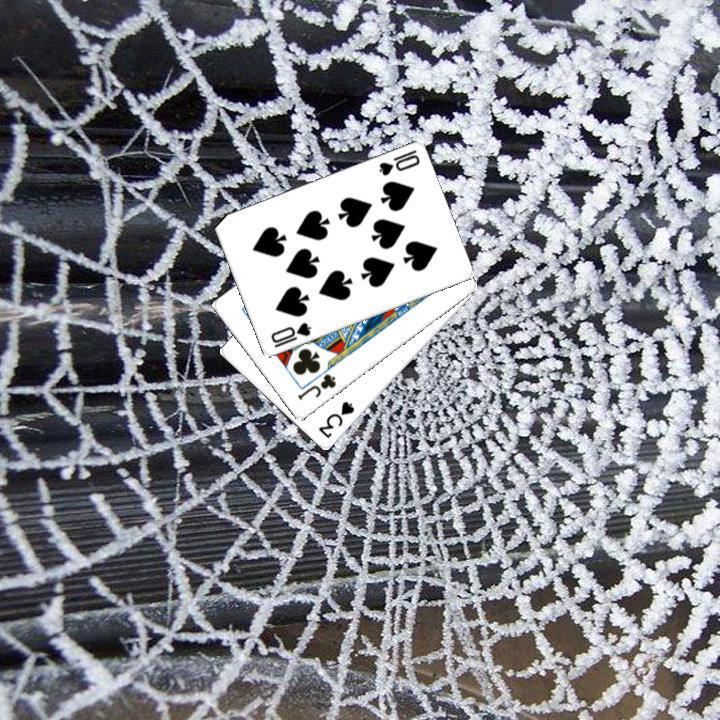10: (374, 146, 422, 178), (266, 318, 313, 350)
3: (314, 397, 356, 440)
J: (293, 369, 338, 402)
